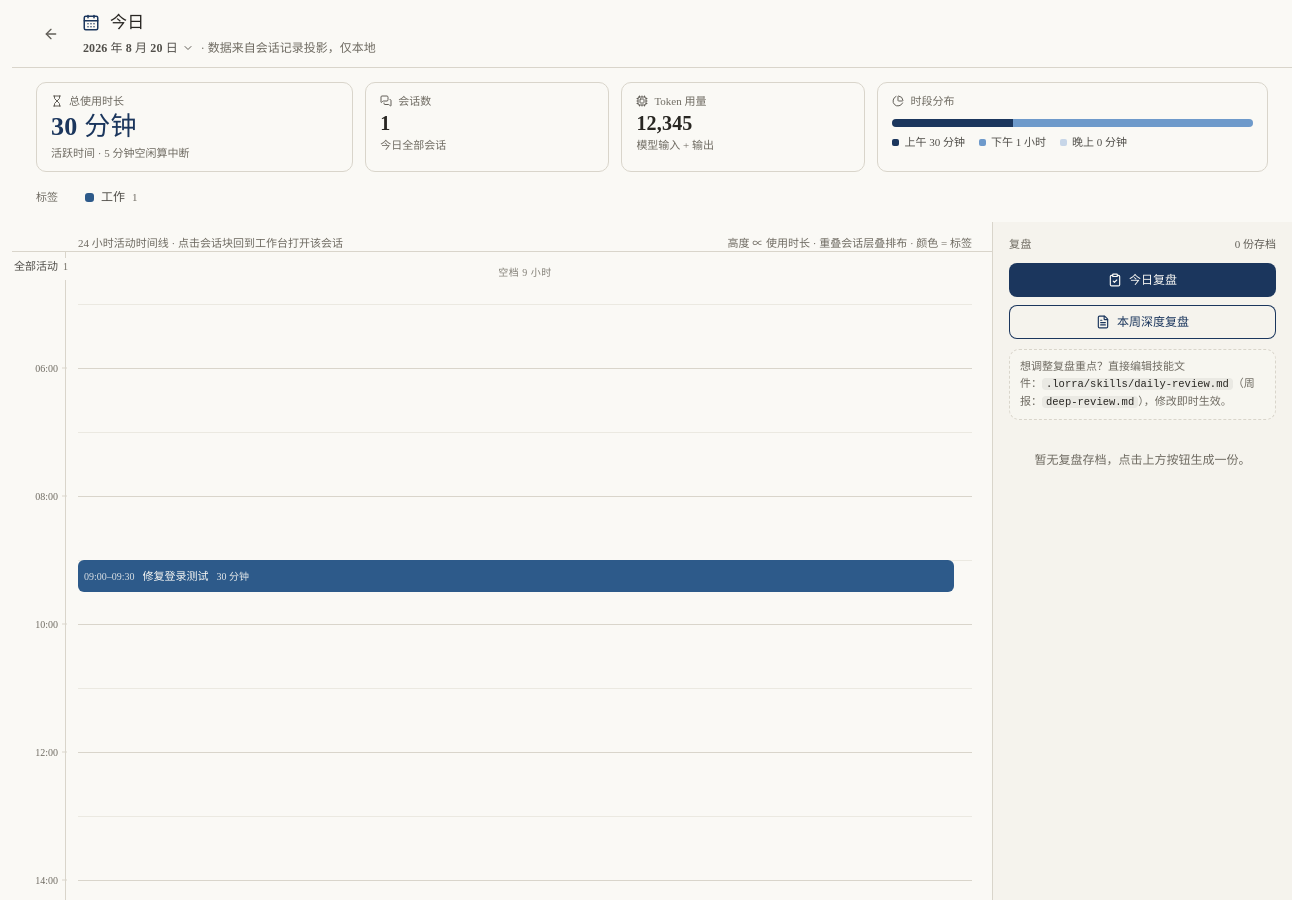
Test case: Requirement: 交互(悬停详情 / 点击下钻) › Scenario 悬停显示详情:标题(summary 优先)、起止时刻、标签、智能体、时长——不含模型/Token/工具
The width and height of the screenshot is (1292, 900).
(page scrolled)
Hover over the button with test id "today-block": (176,576) [78,560,954,592]
(page scrolled)
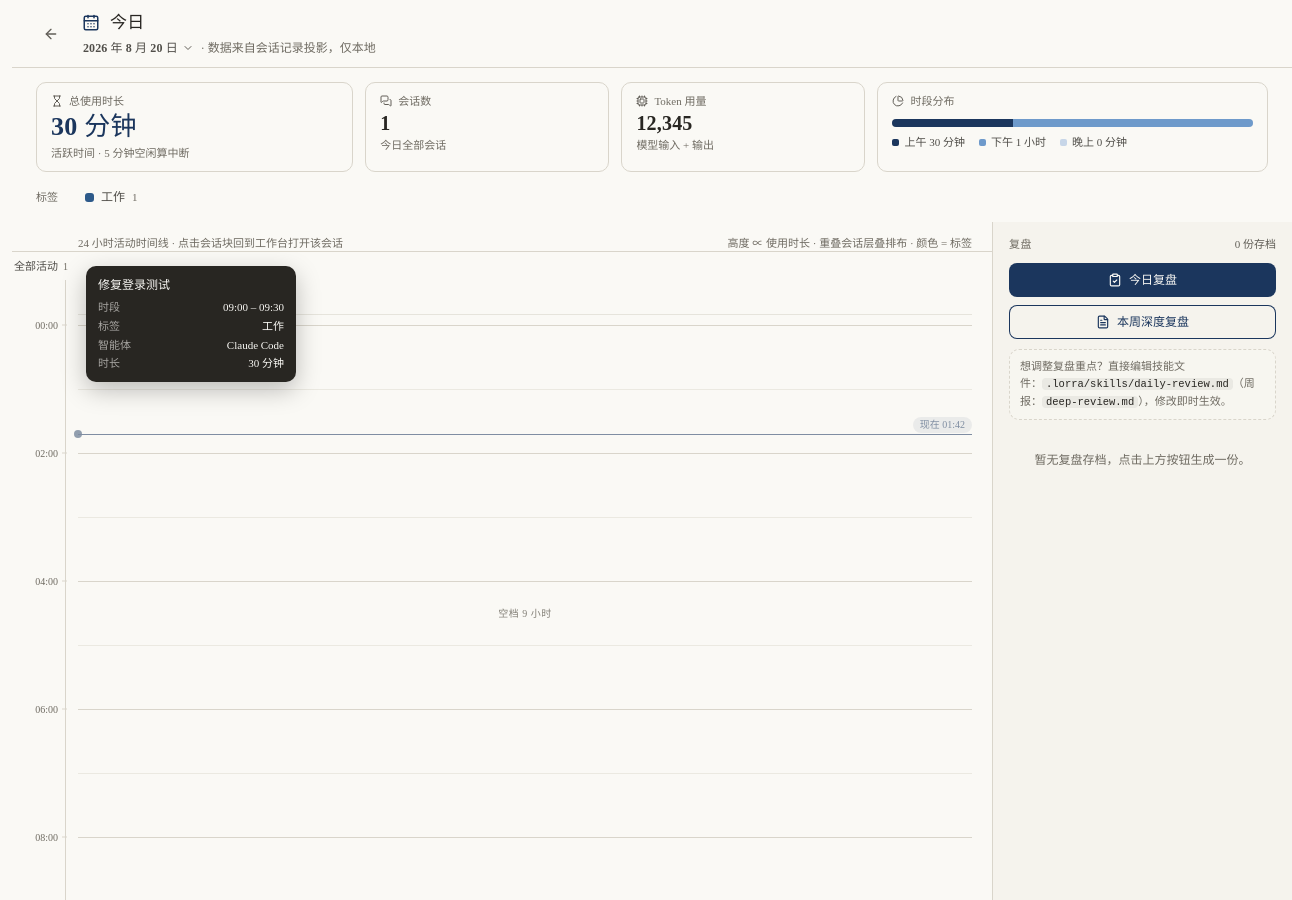
Now the tooltip shows "修复登录测试", box [98,278,170,292]
Now the tooltip shows "09:00", box [223,301,248,313]
Now the tooltip shows "09:30", box [259,301,284,313]
